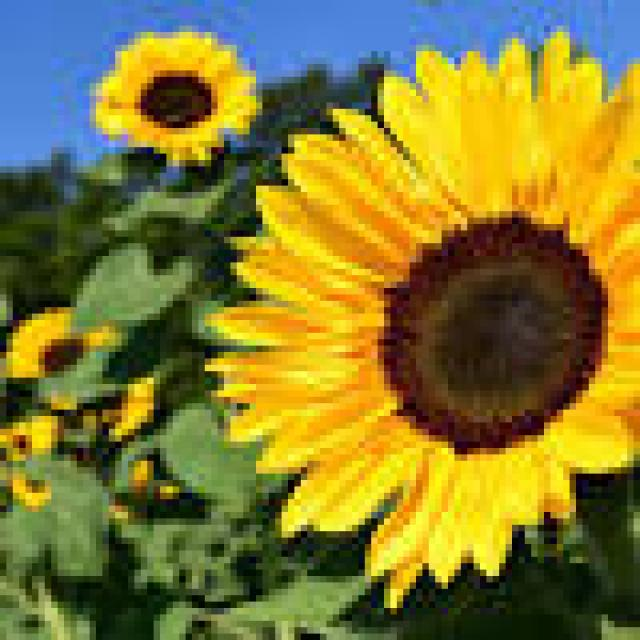sunflower: (192, 28, 640, 621), (93, 19, 253, 179)
